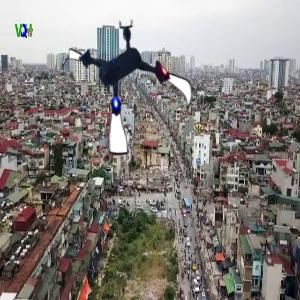drone: (63, 18, 201, 156)
